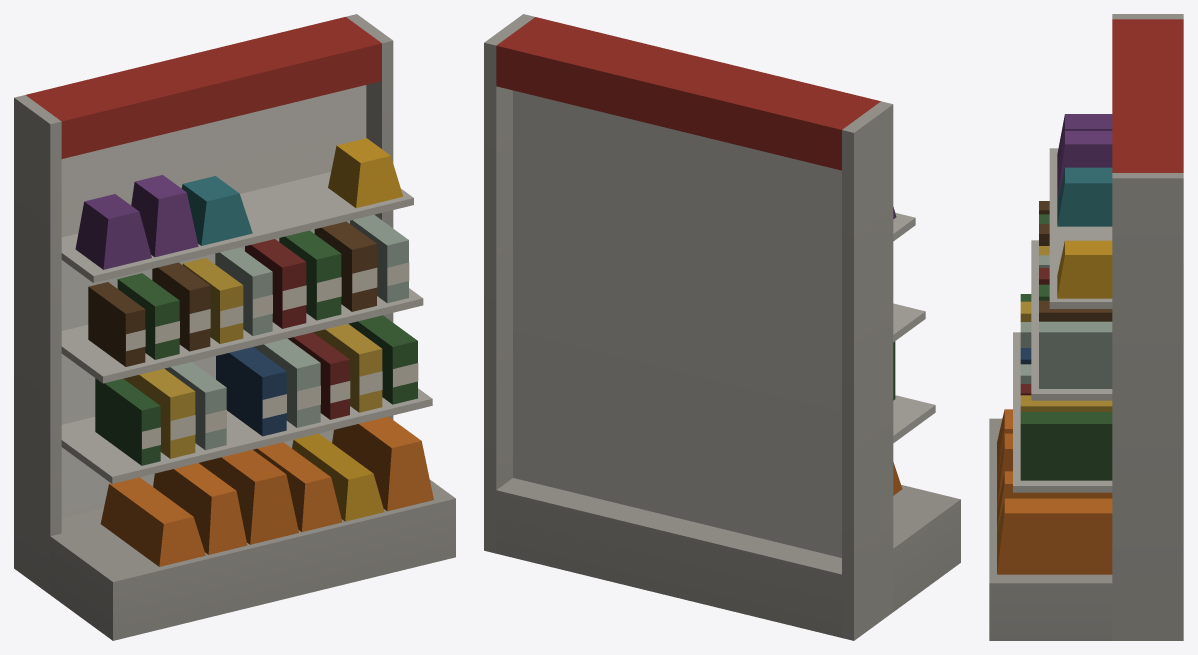
The model's file is shelf.end.mixed.glb.
3 renders of one model, left to right at view 1: azimuth 30°, elevation 25°; view 2: azimuth 150°, elevation 25°; view 3: azimuth 270°, elevation 25°, orthographic. The views are drawn at different scales.
Visible parts, largest first — view 1: shelf_end_mixed; view 2: shelf_end_mixed; view 3: shelf_end_mixed.
Part boxes in pixels (x1,y1,x2,y2): shelf_end_mixed: (14, 14, 455, 640); shelf_end_mixed: (484, 14, 960, 640); shelf_end_mixed: (989, 14, 1183, 640).
Size of what is drawn, in the model's own units: 1.52 by 2 by 0.762.
